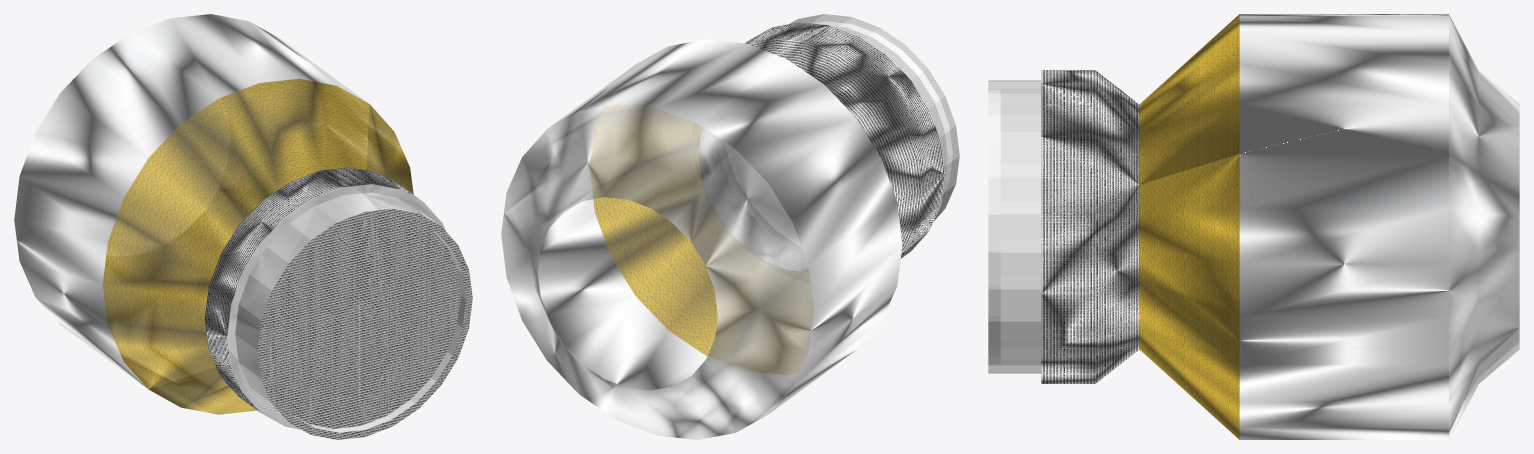
Rendered from model_align.obj.
3 views of the same model, side by side, from view 1: azimuth 30°, elevation 25°; view 2: azimuth 150°, elevation 25°; view 3: azimuth 270°, elevation 25° (orthographic). The views are drawn at different scales.
Bounding box in the file's own units: 0.1126 × 0.1126 × 0.1399.
